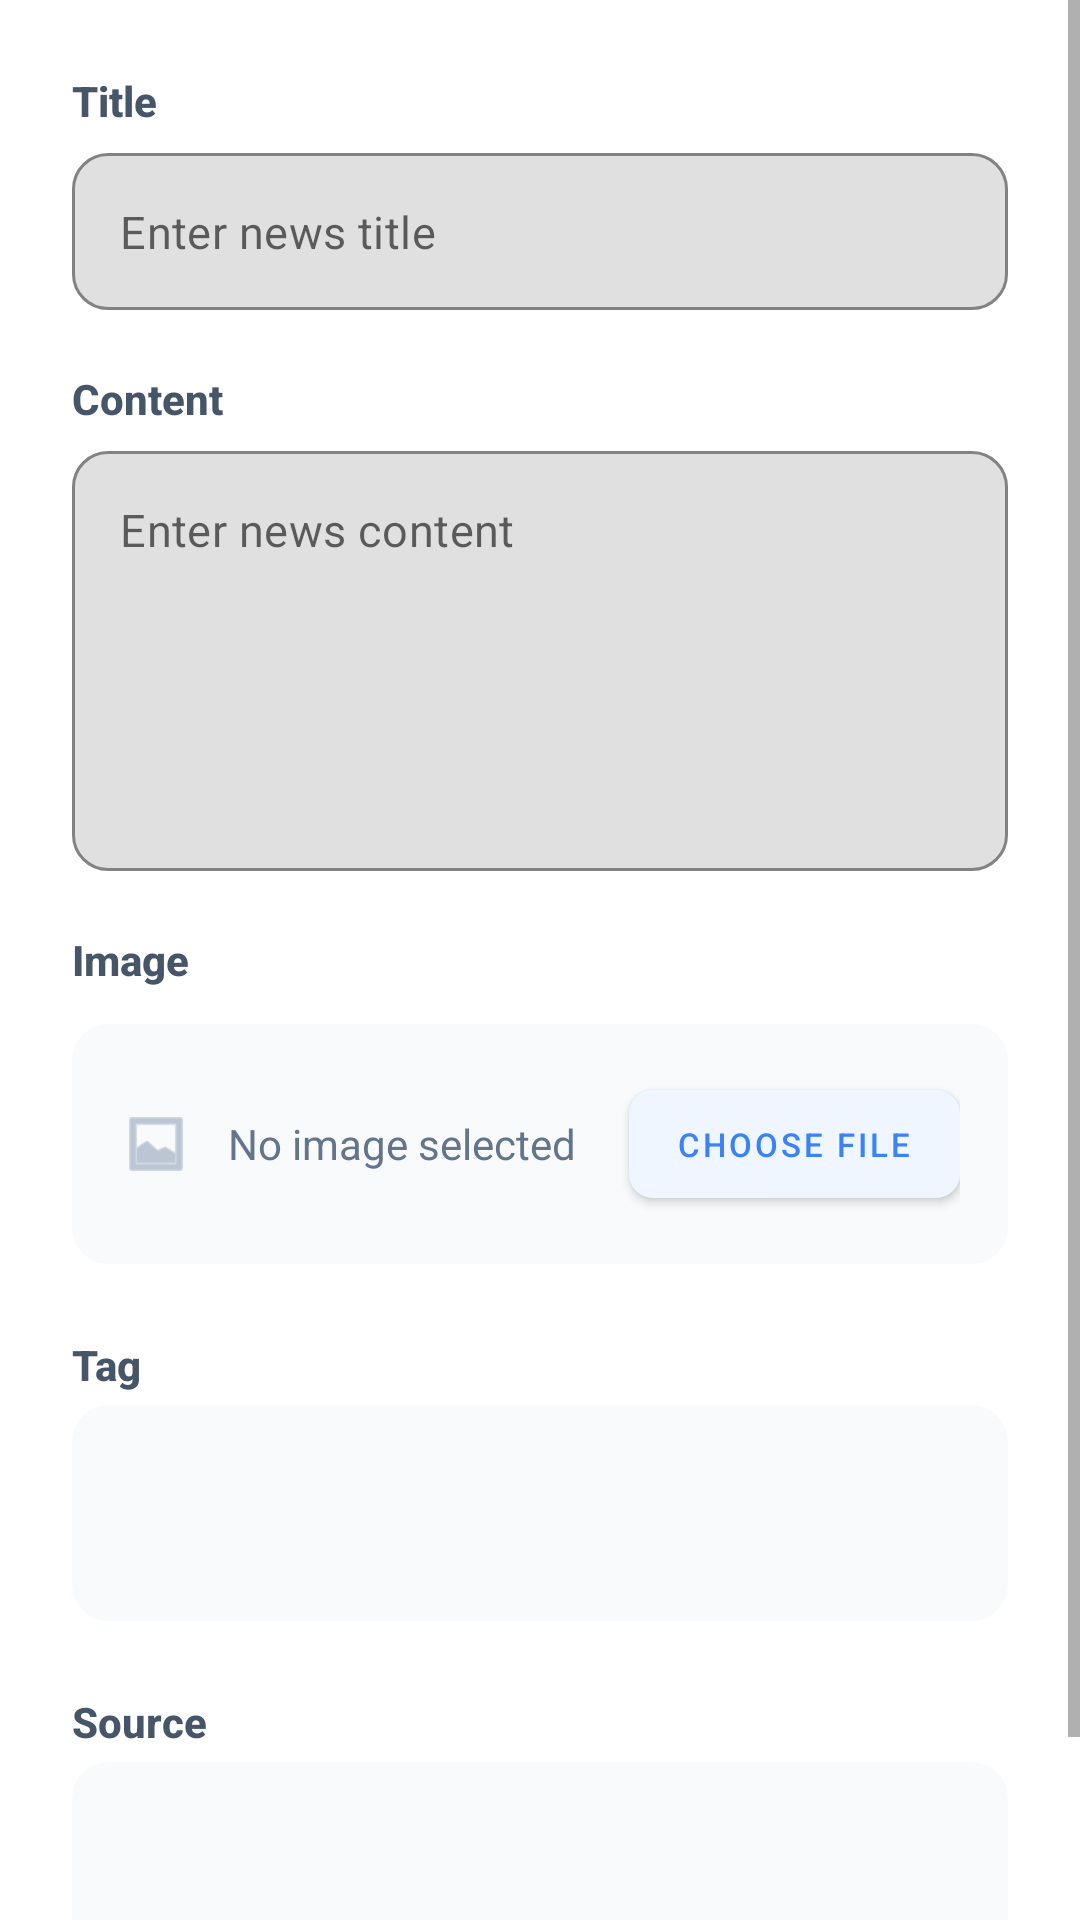

Icon click points for this 1080x1920 phone screenshot, format (x=x, y=y):
gallery: (x=156, y=1144)
